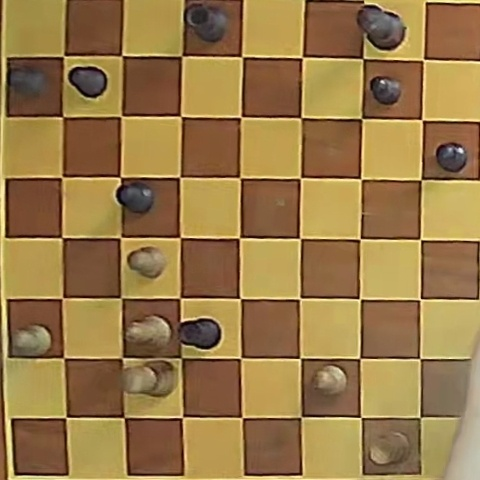black-king: (358, 5, 405, 50)
black-pawn: (69, 66, 107, 98), (9, 65, 46, 96), (118, 182, 155, 213), (436, 143, 467, 173), (371, 76, 402, 105)
black-rook: (184, 2, 227, 42), (179, 318, 221, 350)
white-bishop: (126, 315, 170, 349)
white-king: (124, 361, 175, 395)
white-pawn: (12, 325, 52, 357), (127, 247, 166, 278), (313, 365, 347, 395)
white-rook: (369, 431, 410, 465)
